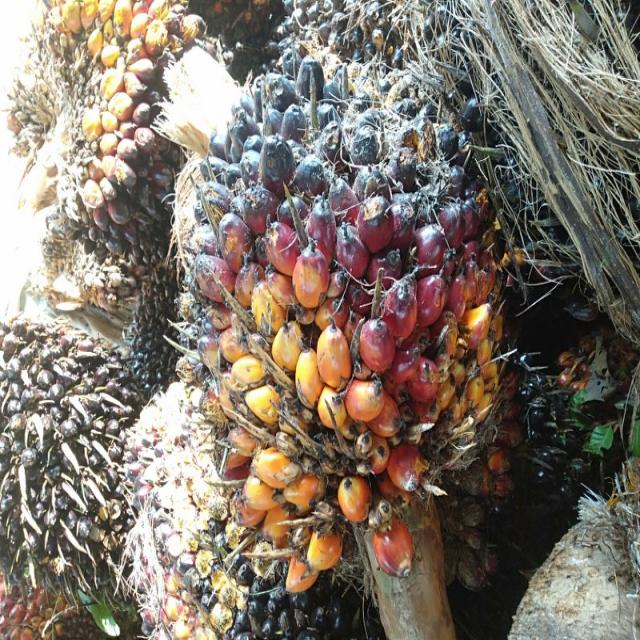fraksi 1: (180, 48, 534, 580)
